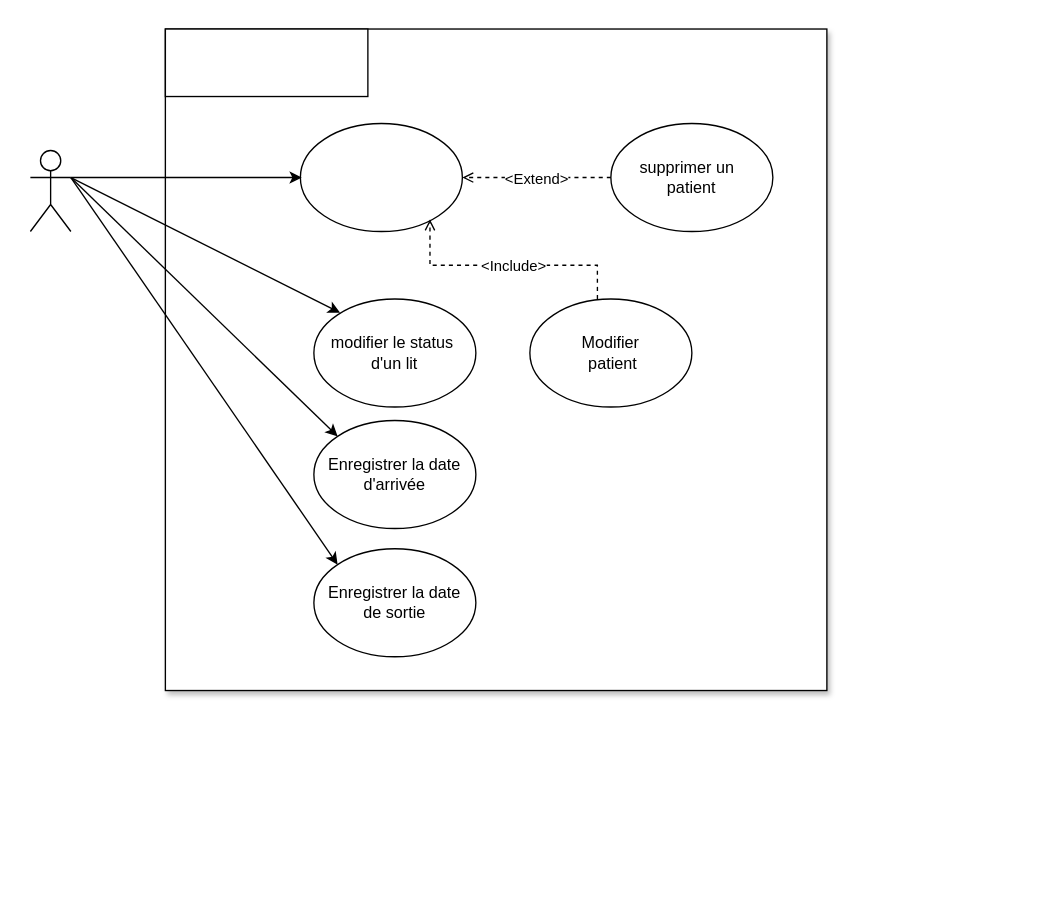
This 1040x903 diagram has some shape labels left out. Each missing label, with the centre of its shape:
"Ajout nouveau patient" goes at pixel 380 177.
"Service" goes at pixel 50 190.
"Use Case" goes at pixel 266 62.
